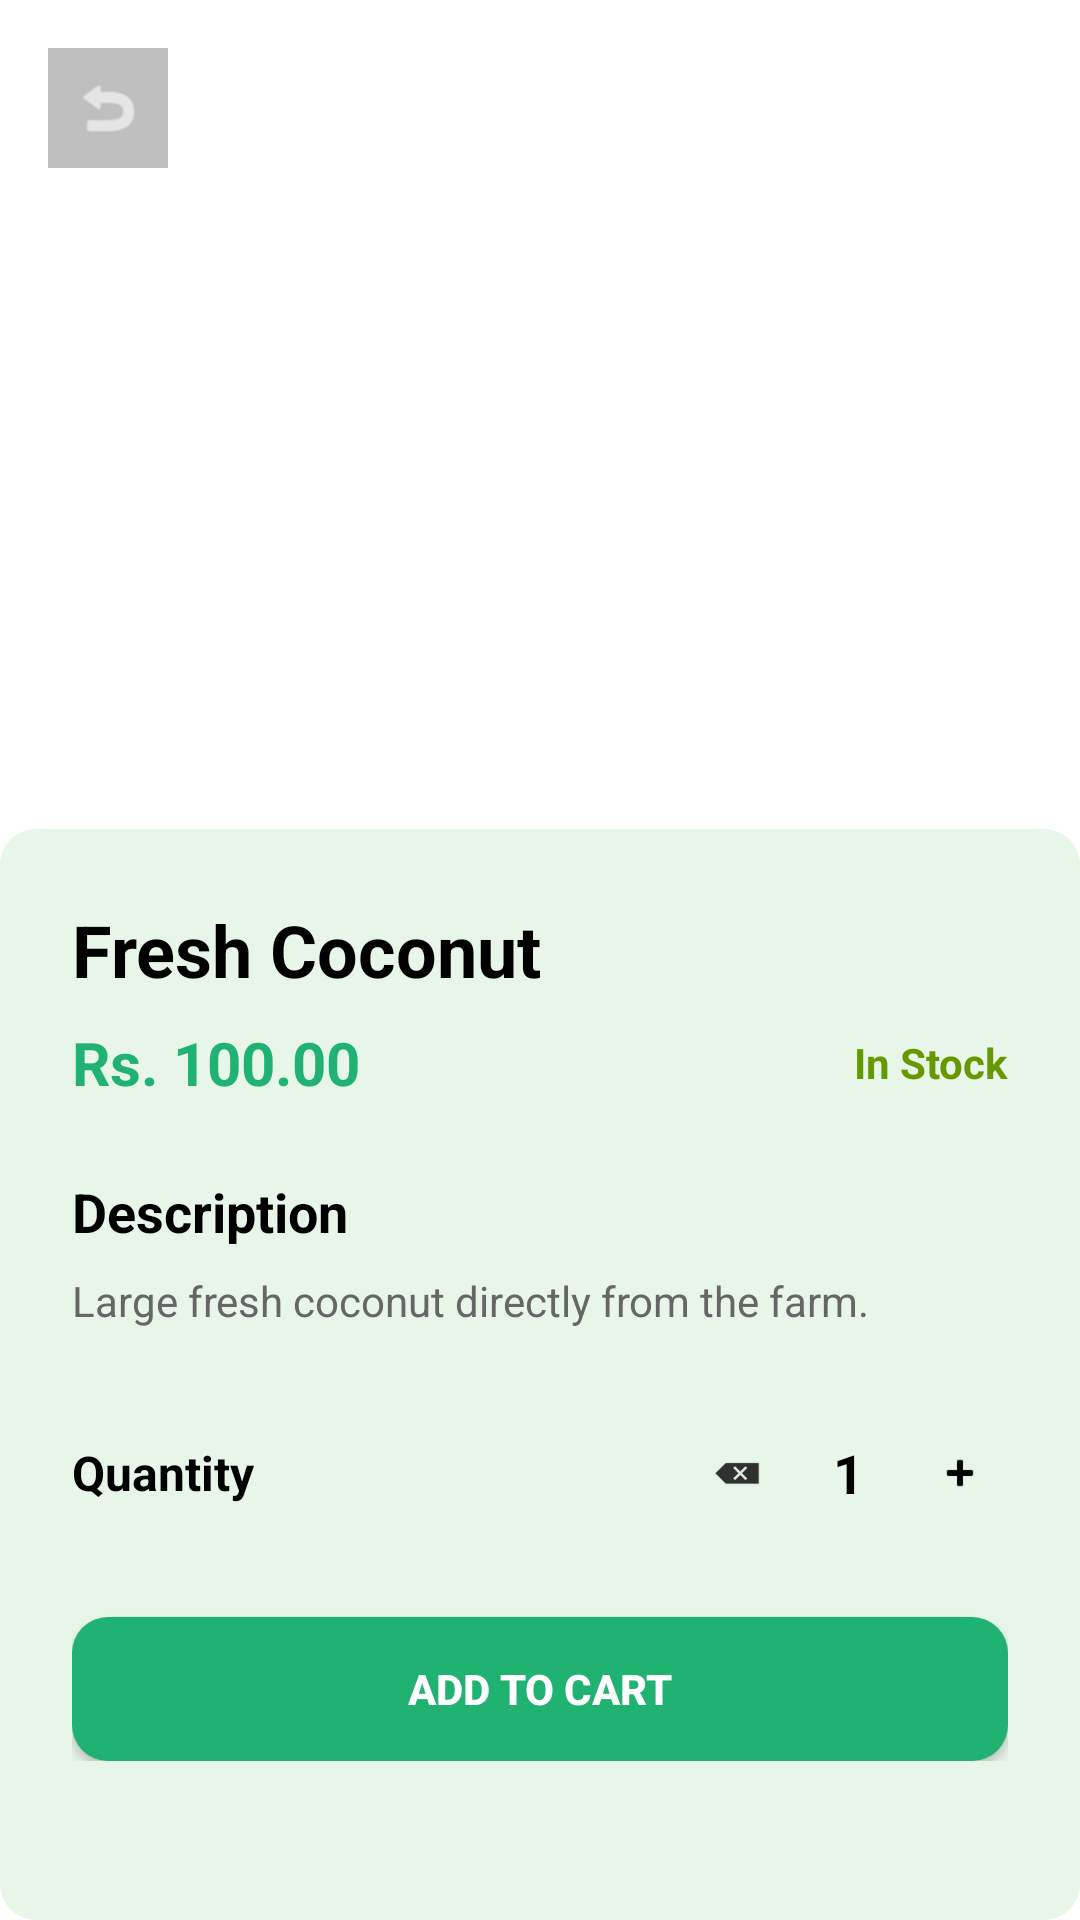

Where to tap for icons on this 1080×1920 app screen, as (x=x, y=y):
delete: (x=737, y=1473)
revert: (x=108, y=108)
